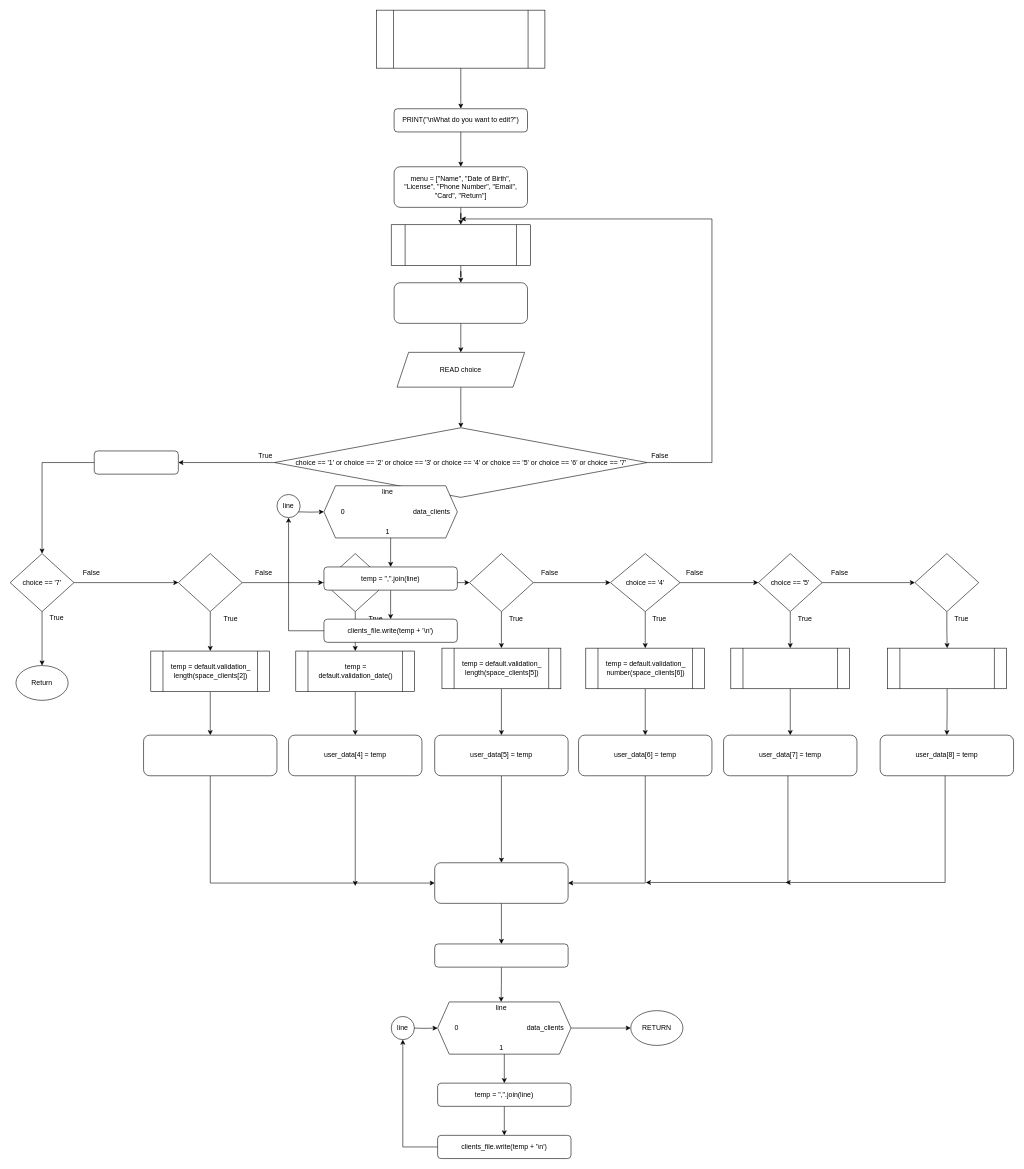
Some shapes in this 1024 by 1169 pixel diagram are drawn without their labels. The centre of each missing label's shape, as x and y in pixels:
BREAK: point 136,462
choice == '1': point 210,582
choice == '3': point 501,582
choice == '6': point 946,582
data_clients[login_index] = user_data: point 501,882
default.general_menu(menu): point 460,244
FUNCTION edit_profile(user_data, data_clients, login_index, space_clients): point 460,39
PRINT("Please Select: "): point 461,302
temp = default.validation_ number(16): point 947,668
temp =default.validation_ email(space_clients[7]): point 790,668
user_data[2] = temp: point 210,755
WITH OPEN("./data/clients.txt", mode = 'w') AS clients_file:: point 501,955
